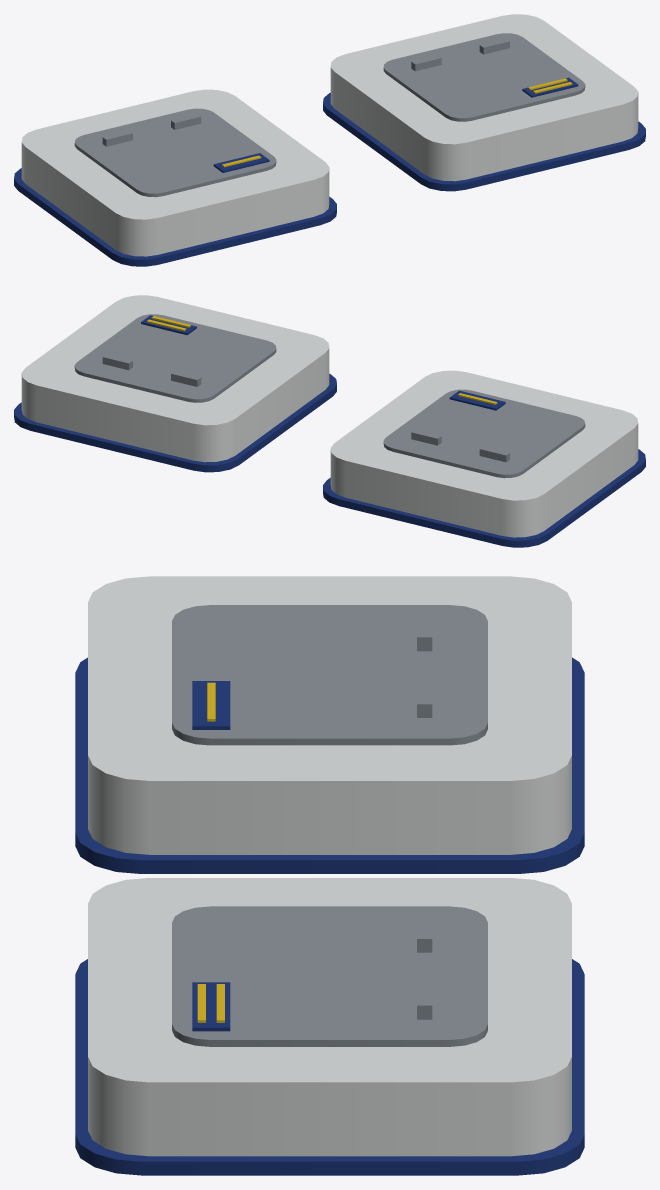
File: mo4_autodoc.obj
3 views of the same model, one above another, from view 1: azimuth 30°, elevation 25°; view 2: azimuth 150°, elevation 25°; view 3: azimuth 270°, elevation 25° (orthographic). The views are drawn at different scales.
Visible parts, largest first — view 1: mo4_autodoc; view 2: mo4_autodoc; view 3: mo4_autodoc.
Boxes of the visible parts, bbox=[...] form: mo4_autodoc: bbox=[14, 14, 645, 266]; mo4_autodoc: bbox=[14, 295, 645, 547]; mo4_autodoc: bbox=[75, 576, 584, 1175].
Size of the model in its own units: 2.4 by 0.235 by 1.
